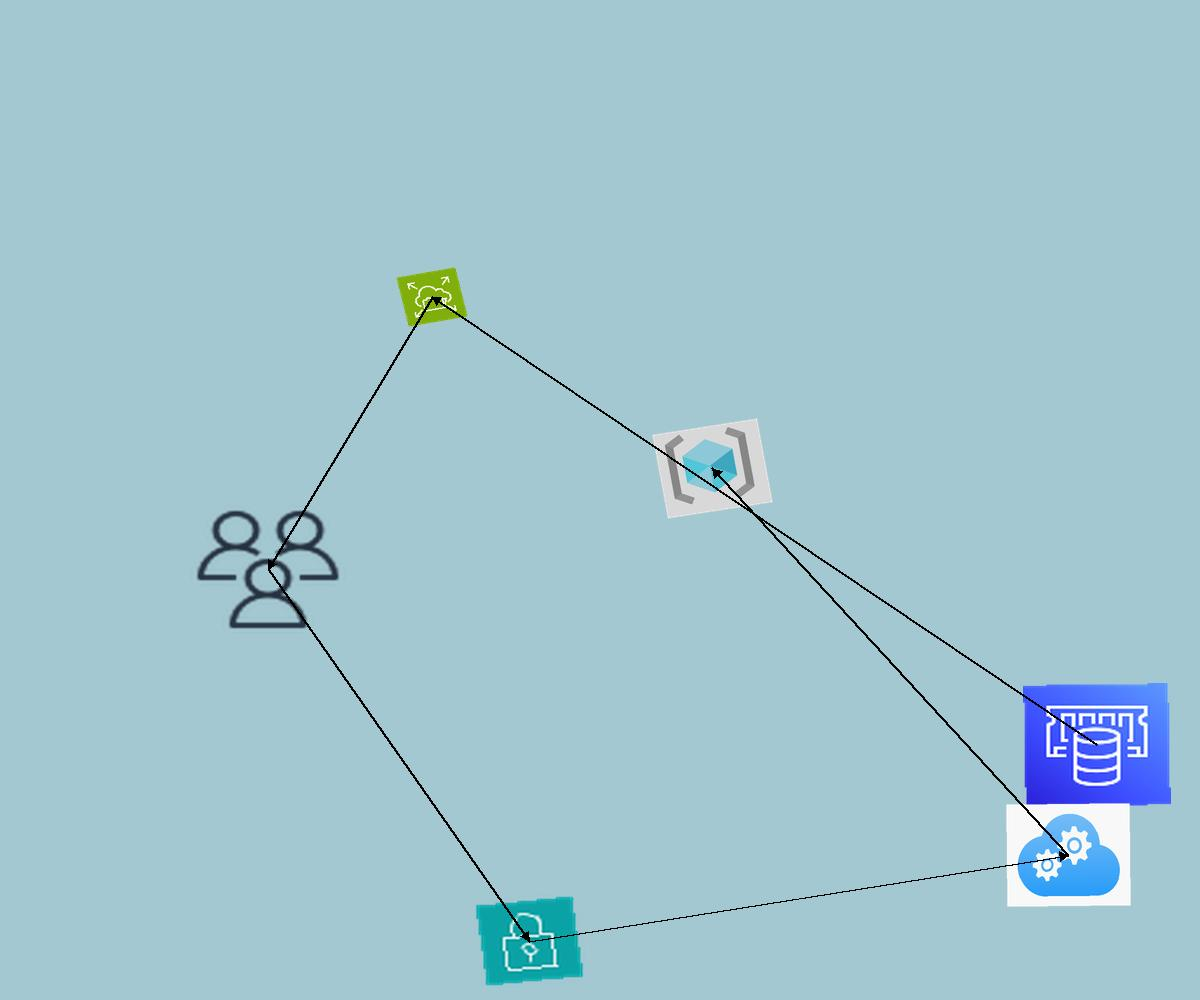AWS-EFS: (396, 267, 468, 327)
AWS-ElastiCache: (1023, 683, 1171, 807)
AWS-Private-subnet: (474, 895, 585, 987)
AWS-Res_Users: (188, 503, 348, 636)
Azure_cloud_services: (1006, 803, 1131, 907)
Azure_resource_group: (652, 418, 773, 519)
